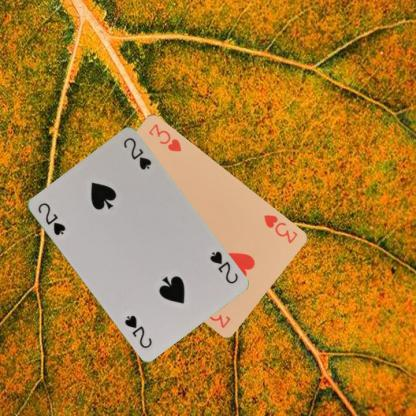2s: (206, 249, 239, 286), (34, 199, 66, 237)
3h: (260, 212, 298, 245)
